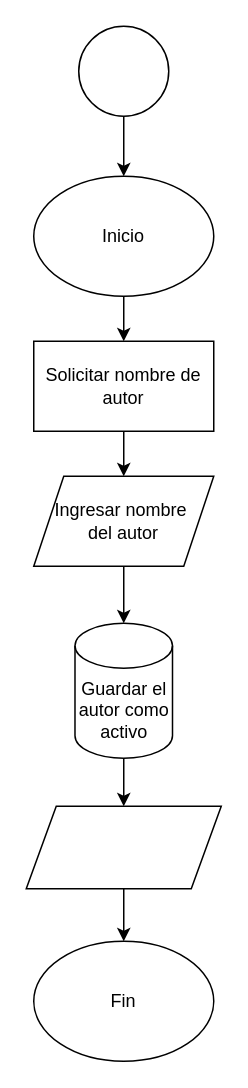
Image size: 248x1088. Some labels were removed from this diagram. The shapes that lost their labels are listed below. From the top down, each one's centre as x and y in pixels, then its label:
At point 123,70: "Menu Pricinpal".
At point 123,847: "Confirmar el registro exitoso".
